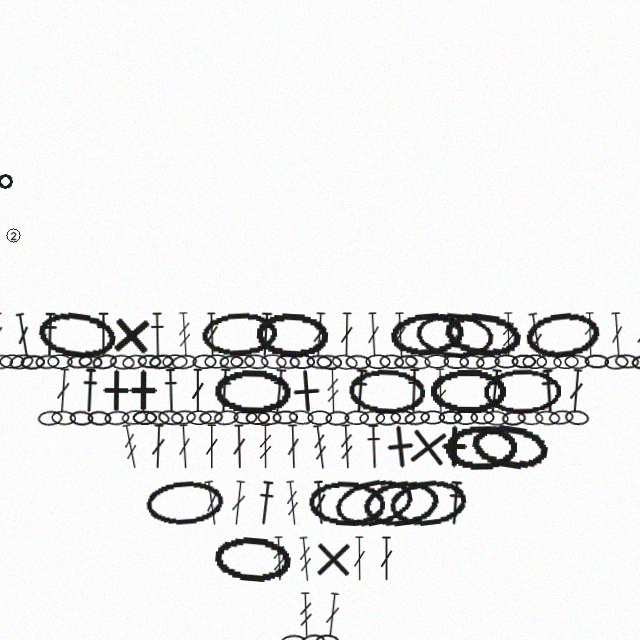chain: (331, 473, 416, 532), (468, 419, 550, 475), (35, 307, 118, 362), (441, 308, 523, 362), (360, 476, 441, 530), (387, 476, 468, 529), (414, 309, 496, 361), (523, 308, 603, 361), (144, 478, 226, 528), (212, 533, 292, 584), (388, 309, 467, 360), (200, 310, 278, 359), (307, 479, 386, 527), (347, 367, 426, 415), (254, 310, 331, 359), (213, 368, 291, 414), (483, 368, 561, 414), (429, 368, 506, 413), (444, 424, 519, 470), (8, 352, 35, 371), (91, 352, 118, 371), (403, 409, 431, 427), (121, 353, 148, 371), (171, 353, 198, 371), (331, 353, 358, 371), (404, 353, 431, 371), (144, 409, 170, 427), (475, 353, 501, 371), (121, 409, 148, 426), (157, 409, 184, 426), (170, 409, 197, 426), (517, 409, 544, 426), (66, 353, 93, 370), (260, 353, 287, 370), (198, 409, 224, 426), (213, 409, 239, 426), (288, 409, 314, 426), (548, 409, 574, 426), (564, 409, 590, 426), (148, 353, 174, 370), (243, 353, 269, 370), (614, 353, 640, 370), (534, 410, 561, 426), (37, 410, 63, 426), (104, 410, 130, 426), (359, 410, 385, 426), (375, 410, 401, 426), (483, 410, 509, 426), (501, 410, 527, 426), (109, 354, 135, 370), (275, 354, 301, 370), (306, 354, 332, 370), (316, 354, 342, 370), (345, 354, 371, 370), (393, 354, 419, 370), (459, 354, 485, 370), (536, 354, 562, 370), (564, 354, 590, 370), (51, 410, 76, 426), (69, 410, 94, 426), (87, 410, 112, 426), (325, 410, 350, 426), (20, 354, 45, 370), (35, 354, 60, 370), (78, 354, 103, 370), (219, 354, 244, 370), (604, 354, 629, 370), (186, 410, 212, 425), (272, 410, 298, 425), (390, 410, 416, 425), (47, 354, 73, 369), (162, 354, 188, 369), (289, 354, 315, 369), (365, 354, 391, 369), (443, 354, 469, 369), (553, 354, 579, 369), (132, 410, 157, 425), (233, 410, 258, 425), (245, 410, 270, 425), (257, 410, 282, 425), (307, 410, 332, 425), (344, 410, 369, 425), (420, 410, 445, 425), (438, 410, 463, 425), (453, 410, 478, 425), (470, 410, 495, 425), (0, 354, 25, 369), (137, 354, 162, 369), (192, 354, 217, 369), (204, 354, 229, 369), (230, 354, 255, 369), (379, 354, 404, 369), (424, 354, 449, 369), (494, 354, 519, 369), (511, 354, 536, 369), (522, 354, 547, 369), (584, 354, 609, 369), (0, 354, 13, 370), (300, 633, 326, 640), (280, 634, 306, 640), (315, 634, 340, 640), (631, 354, 640, 370)
double: (12, 312, 34, 358), (201, 480, 222, 526), (323, 592, 342, 638), (229, 480, 248, 526), (567, 368, 585, 414), (311, 480, 329, 525), (54, 368, 72, 413), (608, 312, 626, 357), (176, 424, 193, 469), (311, 312, 328, 357), (365, 312, 382, 357), (392, 312, 409, 357), (150, 424, 166, 469), (231, 424, 247, 469), (285, 424, 301, 469), (204, 312, 220, 357), (352, 536, 367, 581), (379, 536, 394, 581), (204, 424, 219, 469), (190, 368, 205, 413), (339, 312, 354, 357), (634, 312, 640, 358), (0, 312, 4, 357)
half_double: (254, 480, 277, 526), (268, 368, 290, 414), (484, 368, 505, 414), (445, 480, 465, 526), (350, 368, 370, 414), (539, 368, 558, 414), (80, 368, 99, 413), (215, 368, 234, 413), (256, 312, 275, 357), (365, 424, 383, 469), (162, 368, 180, 413), (405, 368, 423, 413), (41, 312, 59, 357), (95, 312, 112, 357), (149, 312, 166, 357)
noise: (4, 226, 23, 245), (0, 172, 14, 190)
single: (403, 422, 453, 472), (376, 422, 425, 471), (282, 367, 330, 415), (107, 311, 155, 359), (310, 536, 356, 582), (432, 424, 477, 469), (94, 368, 139, 413), (121, 368, 166, 413)
treble: (119, 423, 142, 470), (525, 312, 547, 358), (310, 424, 330, 470), (296, 536, 315, 582), (283, 480, 302, 526), (338, 424, 355, 469), (176, 312, 193, 357), (298, 592, 314, 637), (271, 536, 287, 581), (325, 368, 341, 413), (582, 312, 598, 357), (258, 424, 273, 469), (433, 368, 448, 413), (501, 312, 516, 357)
